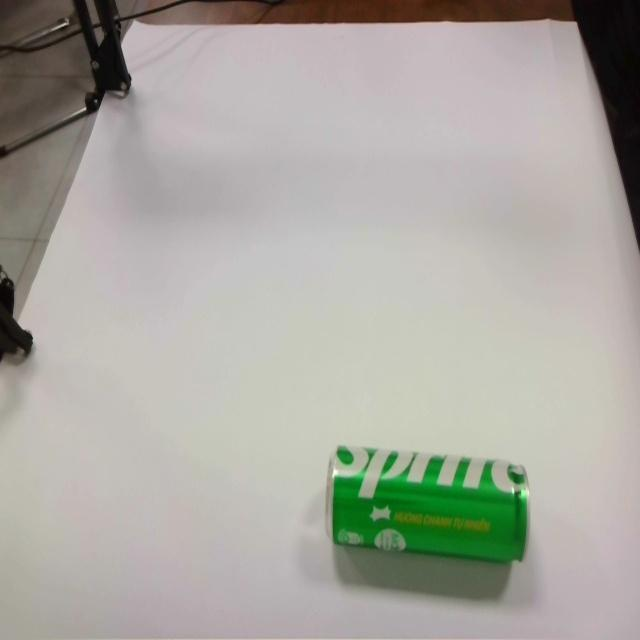debris: (325, 444, 531, 602)
